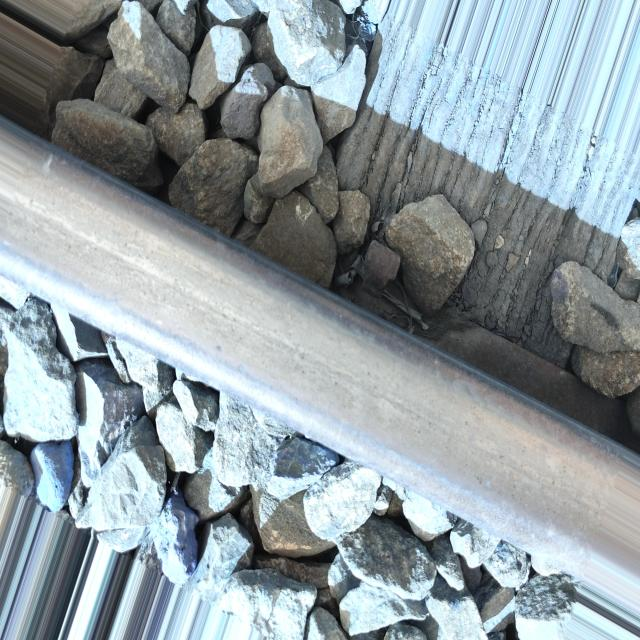non-defective: (1, 114, 638, 633)
